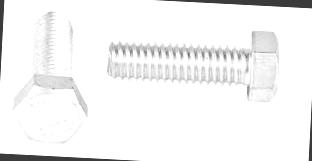screw: (11, 74, 90, 145)
